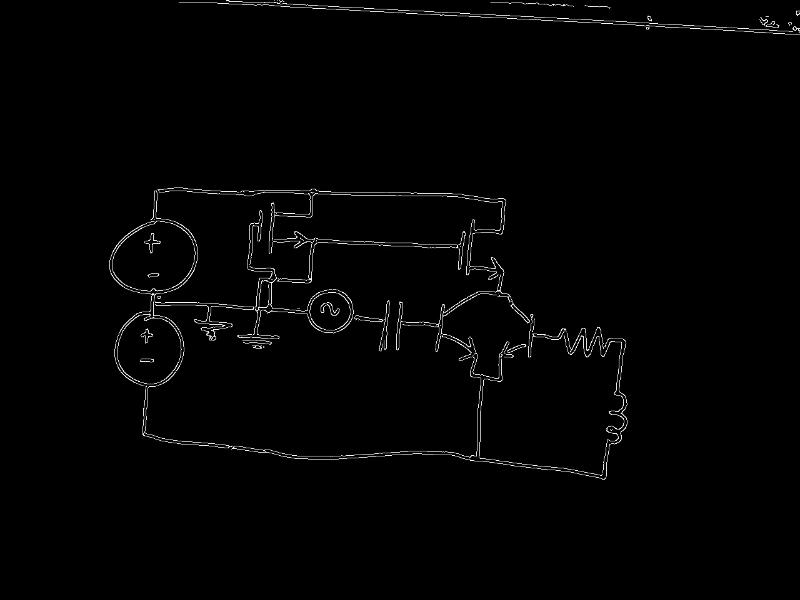-: (146, 271, 161, 279), (139, 357, 156, 364)
